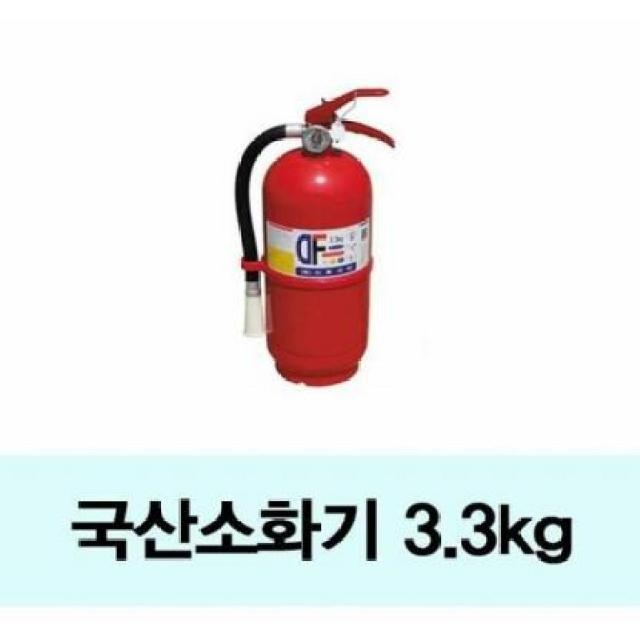fire extinguisher: (234, 88, 395, 386)
